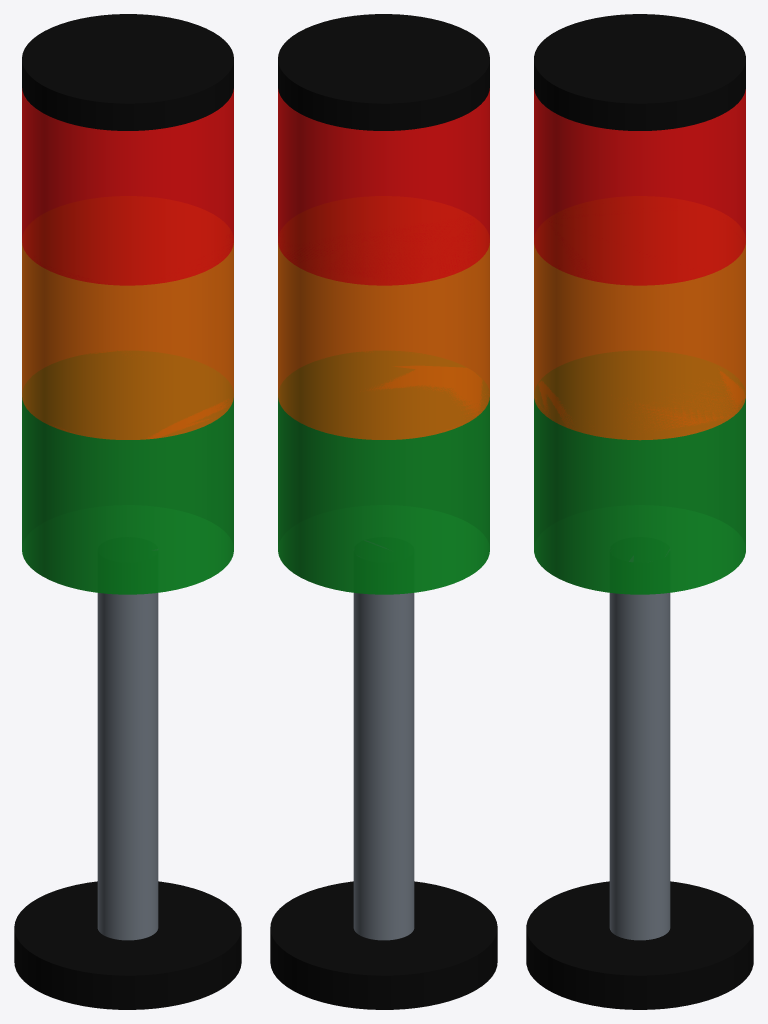
The model's file is tower_light.glb.
3 views of the same model, side by side, from view 1: azimuth 30°, elevation 25°; view 2: azimuth 150°, elevation 25°; view 3: azimuth 270°, elevation 25° (orthographic).
Parts seen in each view (by area): view 1: tower_light; view 2: tower_light; view 3: tower_light.
Part boxes in pixels (left/top/right/bottom): tower_light: left=14, top=14, right=241, bottom=1009; tower_light: left=270, top=14, right=497, bottom=1009; tower_light: left=526, top=14, right=753, bottom=1009.
Size of the model in its own units: 0.06 by 0.263 by 0.0599.
